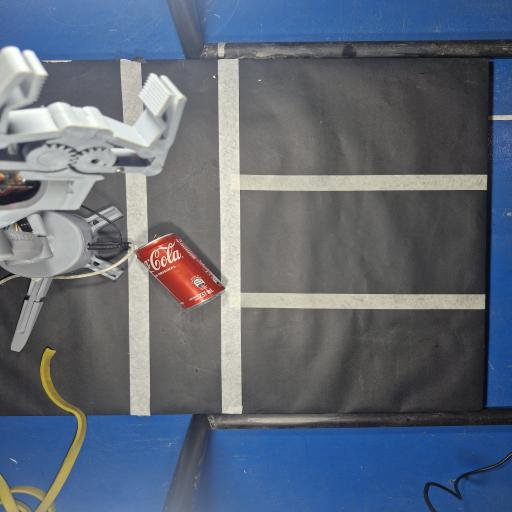lata: (136, 233, 225, 309)
